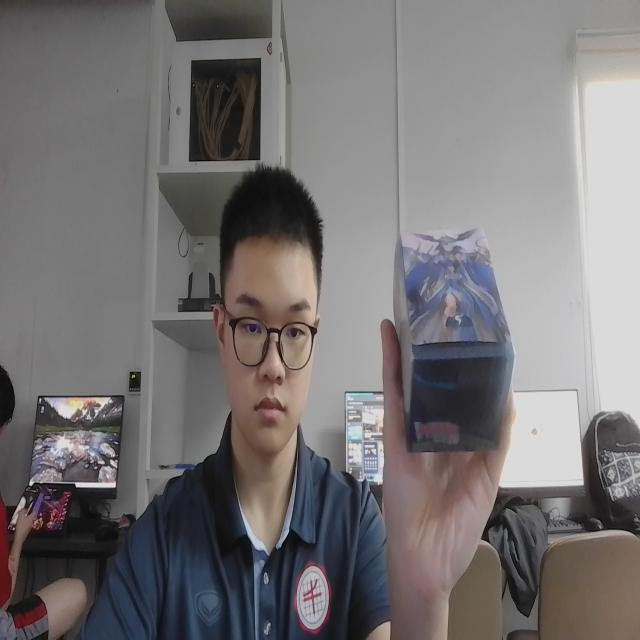box: (384, 213, 518, 478)
